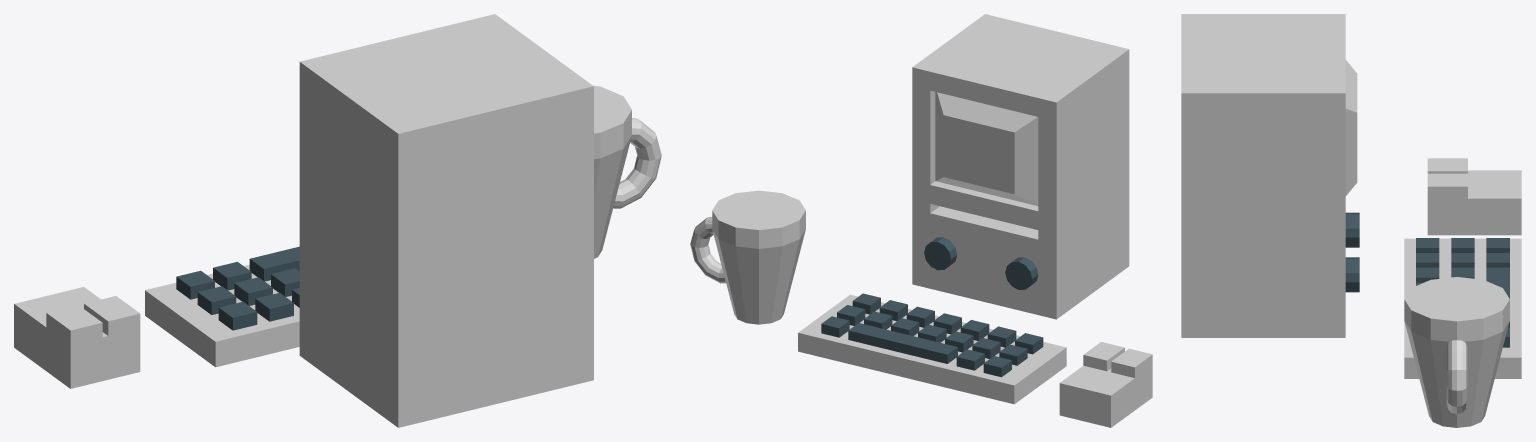
The picture shows the model from 3 angles, left to right: view 1: azimuth 30°, elevation 25°; view 2: azimuth 150°, elevation 25°; view 3: azimuth 270°, elevation 25°; orthographic projection. The views are drawn at different scales.
Visible parts, largest first — view 1: mesh_1351094341, mesh_1151306919, group_358281752, mesh_1917580551, mesh_810296585, mesh_353771075, mesh_1426099186, mesh_440711882, mesh_2063764725, mesh_1099941530, mesh_1096974411, mesh_1429705485 (+4 smaller); view 2: mesh_1351094341, mesh_1151306919, mesh_353771075, mesh_2041770855, mesh_810296585, mesh_756254376, mesh_1917580551, group_358281752, mesh_440711882, mesh_348254951, mesh_2063764725, mesh_1426099186 (+5 smaller); view 3: mesh_1351094341, mesh_440711882, mesh_353771075, group_358281752, mesh_1917580551, mesh_810296585, mesh_2041770855, mesh_1426099186, mesh_1151306919, mesh_941838811, mesh_1141516371, mesh_2063764725 (+7 smaller).
Boxes of the visible parts, x1=… form: mesh_1351094341: x1=349, y1=50, x2=593, y2=427; mesh_1151306919: x1=299, y1=56, x2=372, y2=391; group_358281752: x1=14, y1=287, x2=140, y2=388; mesh_1917580551: x1=324, y1=20, x2=519, y2=91; mesh_810296585: x1=145, y1=264, x2=299, y2=367; mesh_353771075: x1=593, y1=85, x2=631, y2=258; mesh_1426099186: x1=613, y1=118, x2=661, y2=208; mesh_440711882: x1=471, y1=14, x2=543, y2=55; mesh_2063764725: x1=249, y1=246, x2=299, y2=281; mesh_1099941530: x1=218, y1=301, x2=257, y2=330; mesh_1096974411: x1=255, y1=292, x2=293, y2=321; mesh_1429705485: x1=197, y1=286, x2=236, y2=314; mesh_1351094341: x1=949, y1=14, x2=1129, y2=292; mesh_1151306919: x1=1038, y1=71, x2=1092, y2=319; mesh_353771075: x1=712, y1=190, x2=805, y2=324; mesh_2041770855: x1=935, y1=92, x2=1038, y2=205; mesh_810296585: x1=798, y1=294, x2=1066, y2=404; mesh_756254376: x1=930, y1=206, x2=1038, y2=314; mesh_1917580551: x1=930, y1=45, x2=1074, y2=116; group_358281752: x1=1059, y1=342, x2=1152, y2=427; mesh_440711882: x1=912, y1=40, x2=966, y2=288; mesh_348254951: x1=930, y1=181, x2=1038, y2=229; mesh_2063764725: x1=848, y1=323, x2=957, y2=363; mesh_1426099186: x1=690, y1=217, x2=725, y2=283; mesh_1351094341: x1=1181, y1=14, x2=1263, y2=337; mesh_440711882: x1=1263, y1=83, x2=1345, y2=337; mesh_353771075: x1=1404, y1=277, x2=1509, y2=427; group_358281752: x1=1427, y1=158, x2=1521, y2=235; mesh_1917580551: x1=1263, y1=24, x2=1345, y2=83; mesh_810296585: x1=1404, y1=238, x2=1521, y2=378; mesh_2041770855: x1=1345, y1=60, x2=1357, y2=195; mesh_1426099186: x1=1446, y1=340, x2=1467, y2=414; mesh_1151306919: x1=1263, y1=14, x2=1345, y2=23; mesh_941838811: x1=1345, y1=257, x2=1359, y2=292; mesh_1141516371: x1=1345, y1=212, x2=1359, y2=247; mesh_2063764725: x1=1486, y1=267, x2=1509, y2=327.
Bounding box in the file's own units: 49.71 × 25 × 29.
